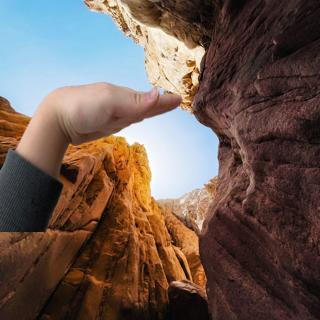Wait: (26, 76, 185, 151)
